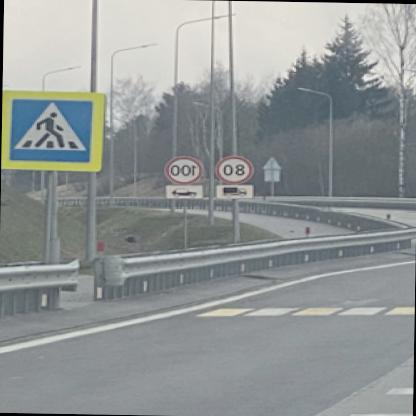crosswalk: (9, 96, 97, 162)
speedlimit: (166, 154, 206, 182), (218, 154, 256, 182)
